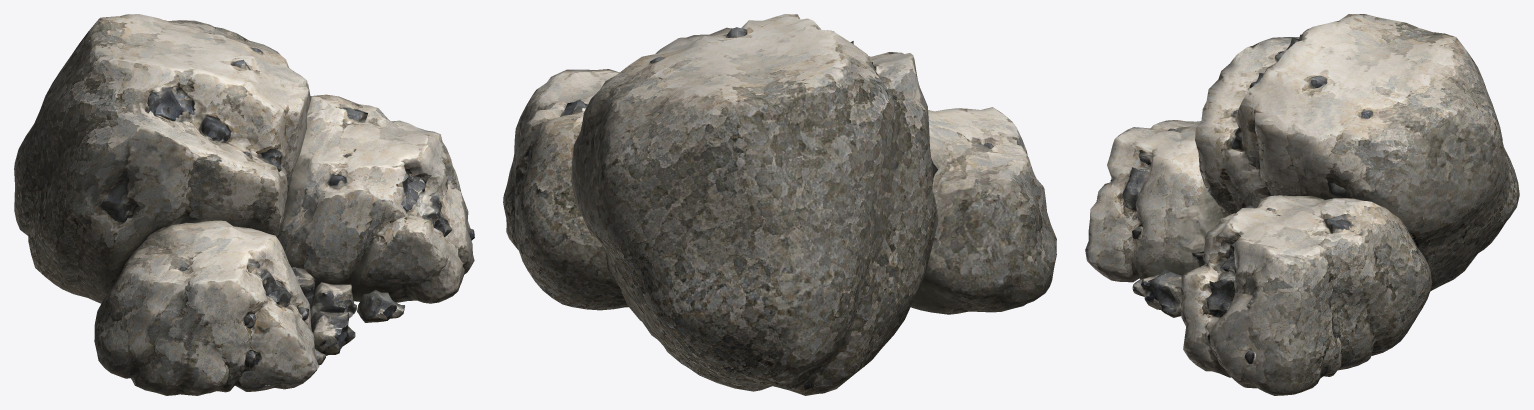
Rendered from dungeon-prop-flint-boulders.glb.
The picture shows the model from 3 angles, left to right: view 1: azimuth 30°, elevation 25°; view 2: azimuth 150°, elevation 25°; view 3: azimuth 270°, elevation 25°; orthographic projection. The views are drawn at different scales.
Visible parts, largest first — view 1: flint-boulders; view 2: flint-boulders; view 3: flint-boulders.
Boxes of the visible parts, x1,y1,x2,y2 form: flint-boulders: [14, 14, 474, 395]; flint-boulders: [503, 14, 1056, 395]; flint-boulders: [1085, 14, 1519, 395].
Size of the model in its own units: 2 by 1.18 by 1.91.
1 material, 1 textured.
